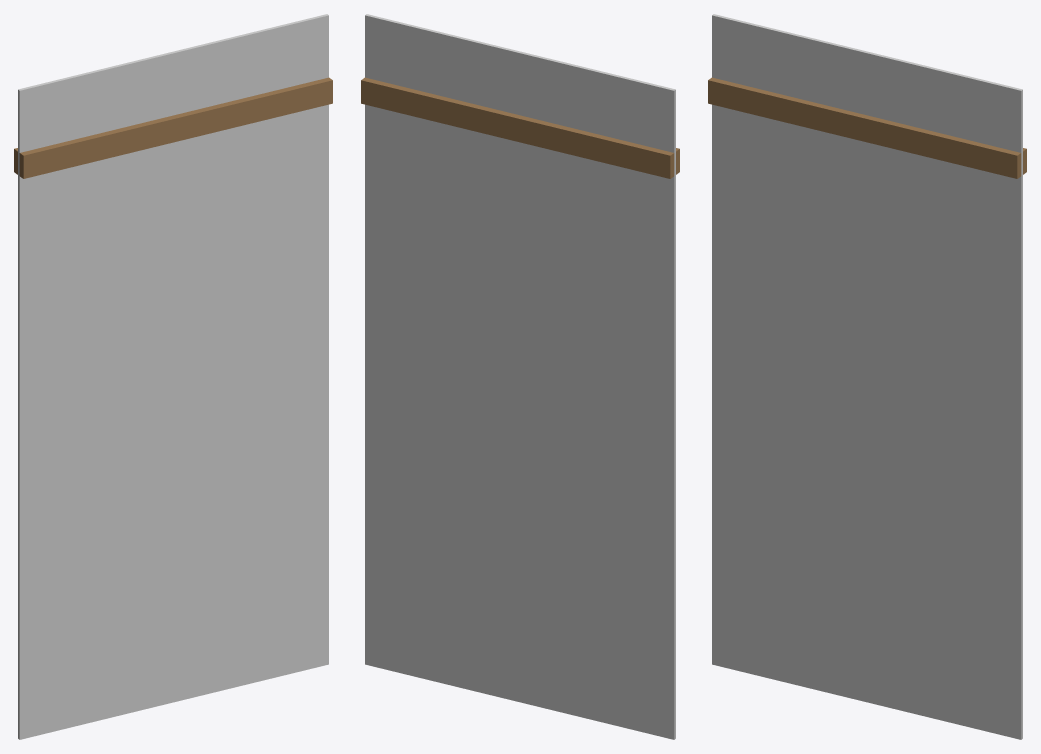
File: mod_paredPiedra.fbx
3 renders of one model, left to right at view 1: azimuth 30°, elevation 25°; view 2: azimuth 150°, elevation 25°; view 3: azimuth 330°, elevation 25°, orthographic.
Visible parts, largest first — view 1: Pared_Medio_low; view 2: Pared_Medio_low; view 3: Pared_Medio_low.
Boxes of the visible parts, <box> form: Pared_Medio_low: <box>14,14,332,739</box>; Pared_Medio_low: <box>361,14,679,739</box>; Pared_Medio_low: <box>708,14,1026,739</box>.
Size of the model in its own units: 1.18 by 2.38 by 0.0627.
